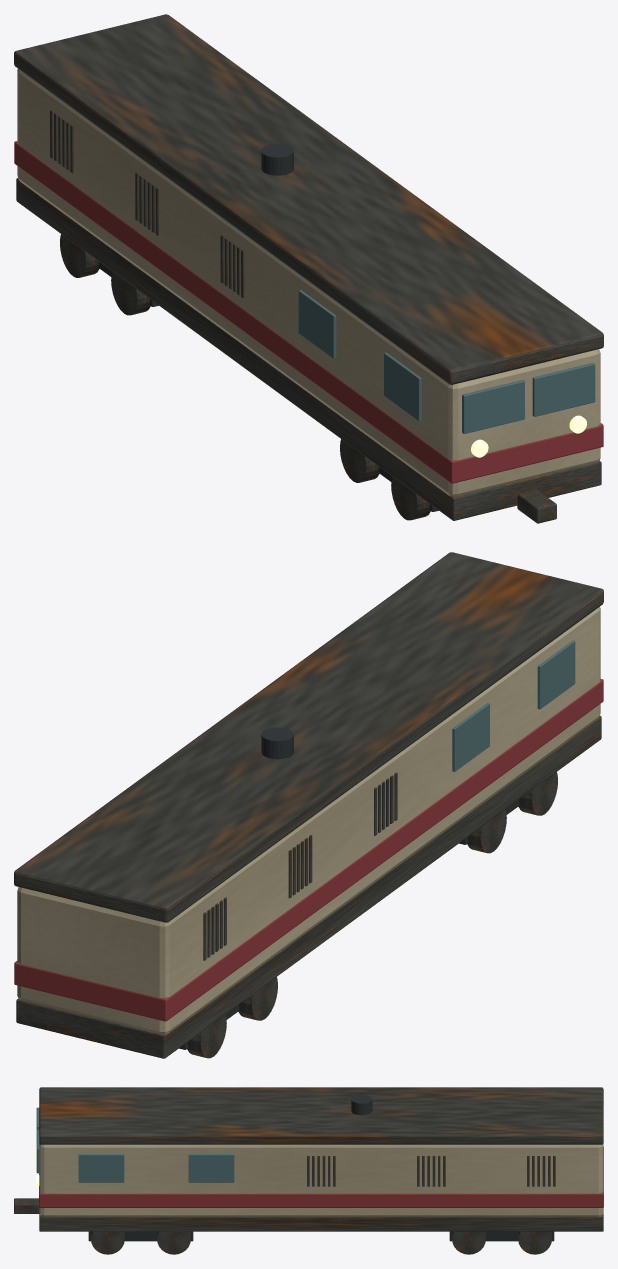
The model's file is lokomotif.glb.
3 views of the same model, one above another, from view 1: azimuth 30°, elevation 25°; view 2: azimuth 150°, elevation 25°; view 3: azimuth 270°, elevation 25° (orthographic). The views are drawn at different scales.
Parts seen in each view (by area): view 1: Atap, Bodi, Sabuk marun, Sasis, Kaca depan.001, Kaca depan, Jendela.001, Jendela, Roda.001, Roda, Roda.003, Roda.002 (+2 smaller); view 2: Atap, Bodi, Sasis, Sabuk marun, Jendela, Jendela.001, Roda.003, Roda, Roda.001, Roda.002, Knalpot; view 3: Atap, Bodi, Sabuk marun, Sasis, Jendela.002, Jendela.003, Roda.005, Roda.006, Roda.004, Roda.007, Bogie.002, Bogie.003 (+2 smaller).
Boxes of the visible parts, <box> form: Atap: <box>14,14,603,384</box>; Bodi: <box>17,69,600,496</box>; Sabuk marun: <box>14,141,603,483</box>; Sasis: <box>16,178,601,520</box>; Kaca depan.001: <box>532,362,595,416</box>; Kaca depan: <box>462,380,524,433</box>; Jendela.001: <box>298,290,336,358</box>; Jendela: <box>384,352,421,421</box>; Roda.001: <box>340,439,379,482</box>; Roda: <box>391,476,430,520</box>; Roda.003: <box>60,234,99,277</box>; Roda.002: <box>111,271,150,315</box>; Atap: <box>14,552,603,922</box>; Bodi: <box>17,606,600,1034</box>; Sasis: <box>16,715,601,1058</box>; Sabuk marun: <box>14,679,603,1021</box>; Jendela: <box>537,640,575,709</box>; Jendela.001: <box>452,703,489,771</box>; Roda.003: <box>187,1014,226,1058</box>; Roda: <box>518,772,557,815</box>; Roda.001: <box>467,809,506,853</box>; Roda.002: <box>238,977,277,1020</box>; Knalpot: <box>261,727,293,759</box>; Atap: <box>39,1087,603,1144</box>; Bodi: <box>39,1143,603,1217</box>; Sabuk marun: <box>39,1147,603,1207</box>; Sasis: <box>39,1214,603,1231</box>; Jendela.002: <box>78,1154,124,1182</box>; Jendela.003: <box>188,1154,234,1182</box>; Roda.005: <box>157,1231,190,1254</box>; Roda.006: <box>452,1231,485,1254</box>; Roda.004: <box>91,1231,124,1254</box>; Roda.007: <box>518,1231,551,1254</box>; Bogie.002: <box>88,1231,193,1241</box>; Bogie.003: <box>449,1231,554,1241</box>.
Bounding box in the file's own units: 2.89 × 3.65 × 14.64.
Materials: 6 (2 with a texture image).
